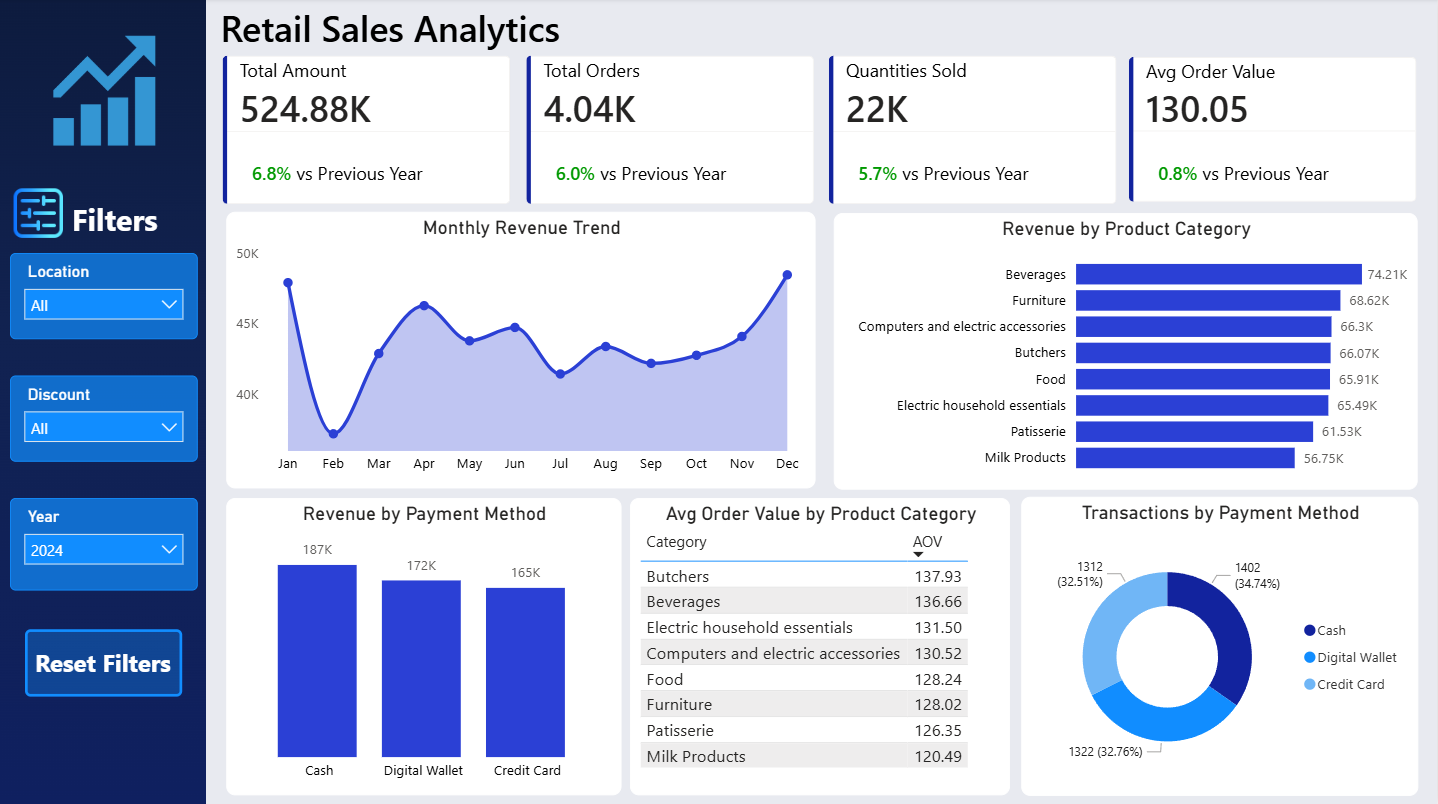

The dashboard page shown, as its layout file describes it:
{"tool":"powerbi","page":{"name":"Page 1","canvas":[1280,720],"ordinal":0},"visuals":[{"type":"textbox","box":[191.9,0,340.7,60.5],"z":0},{"type":"areaChart","title":"Monthly Revenue Trend","fields":{"Y":["cleaned_data.Total Amount"],"Category":["cleaned_data.Month Abbreviation"]},"box":[201.2,190,525,246.2],"z":1000},{"type":"clusteredBarChart","title":"Revenue by Product Category","fields":{"Y":["cleaned_data.Total Amount"],"Category":["cleaned_data.Category"]},"box":[742.5,191.2,520,246.2],"z":2000},{"type":"tableEx","title":"Avg Order Value by Product Category","fields":{"Values":["cleaned_data.Category","cleaned_data.Avg Transaction Value"]},"box":[561.2,445,338.8,265],"z":3000},{"type":"clusteredColumnChart","title":"Revenue by Payment Method","fields":{"Category":["cleaned_data.Payment Method"],"Y":["cleaned_data.Total Amount"]},"box":[201.5,445.3,351.8,264.9],"z":4000},{"type":"donutChart","title":"Transactions by Payment Method","fields":{"Category":["cleaned_data.Payment Method"],"Y":["CountNonNull(cleaned_data.Payment Method)"]},"box":[909.3,444.2,353.5,266.3],"z":5000},{"type":"slicer","fields":{"Values":["cleaned_data.Transaction Date.Variation.Date Hierarchy.Year"]},"box":[8.9,445.3,167,82.4],"z":6000},{"type":"slicer","fields":{"Values":["cleaned_data.Discount Applied"]},"box":[8.9,336.2,167,76.8],"z":7000},{"type":"slicer","fields":{"Values":["cleaned_data.Location"]},"box":[8.9,227.1,167,76.8],"z":8000},{"type":"cardVisual","fields":{"Data":["cleaned_data.Total Amount"]},"box":[182,34.9,290,166.3],"z":9000},{"type":"cardVisual","fields":{"Data":["Count(cleaned_data.Transaction ID)"]},"box":[452.3,34.9,290,166.3],"z":10000},{"type":"cardVisual","fields":{"Data":["cleaned_data.Quantites Sold"]},"box":[721,34.9,290,166.3],"z":11000},{"type":"cardVisual","fields":{"Data":["cleaned_data.Avg Transaction Value"]},"box":[988,36,290,164],"z":12000},{"type":"image","box":[8.9,164.8,50.1,53.4],"z":13000},{"type":"textbox","box":[58.8,173.8,121.2,53.8],"z":14000},{"type":"actionButton","box":[22.5,562.5,140,60],"z":15000},{"type":"image","box":[34.5,30.1,116.9,104.6],"z":16000}]}

Visuals, with their boxes in screenshot pixels (x1, y1, x2, y2), scaled from the page's 1280x720 canvas onto the 1438x804 screenshot:
textbox: BBox(216, 0, 598, 68)
"Monthly Revenue Trend" areaChart: BBox(226, 212, 816, 487)
"Revenue by Product Category" clusteredBarChart: BBox(834, 214, 1418, 488)
"Avg Order Value by Product Category" tableEx: BBox(630, 497, 1011, 793)
"Revenue by Payment Method" clusteredColumnChart: BBox(226, 497, 622, 793)
"Transactions by Payment Method" donutChart: BBox(1022, 496, 1419, 793)
slicer - cleaned_data.Transaction Date.Variation.Date Hierarchy.Year: BBox(10, 497, 198, 589)
slicer - cleaned_data.Discount Applied: BBox(10, 375, 198, 461)
slicer - cleaned_data.Location: BBox(10, 254, 198, 339)
cardVisual - cleaned_data.Total Amount: BBox(204, 39, 530, 225)
cardVisual - Count(cleaned_data.Transaction ID): BBox(508, 39, 834, 225)
cardVisual - cleaned_data.Quantites Sold: BBox(810, 39, 1136, 225)
cardVisual - cleaned_data.Avg Transaction Value: BBox(1110, 40, 1436, 223)
image: BBox(10, 184, 66, 244)
textbox: BBox(66, 194, 202, 254)
actionButton: BBox(25, 628, 183, 695)
image: BBox(39, 34, 170, 150)
